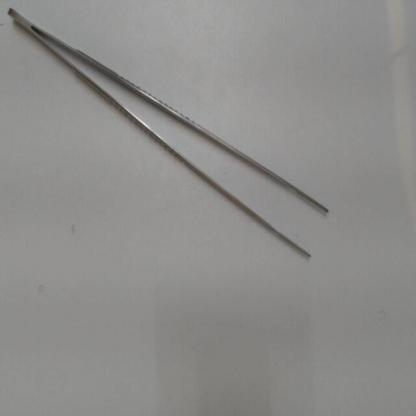DeBakey Dissector: (1, 3, 366, 286)
